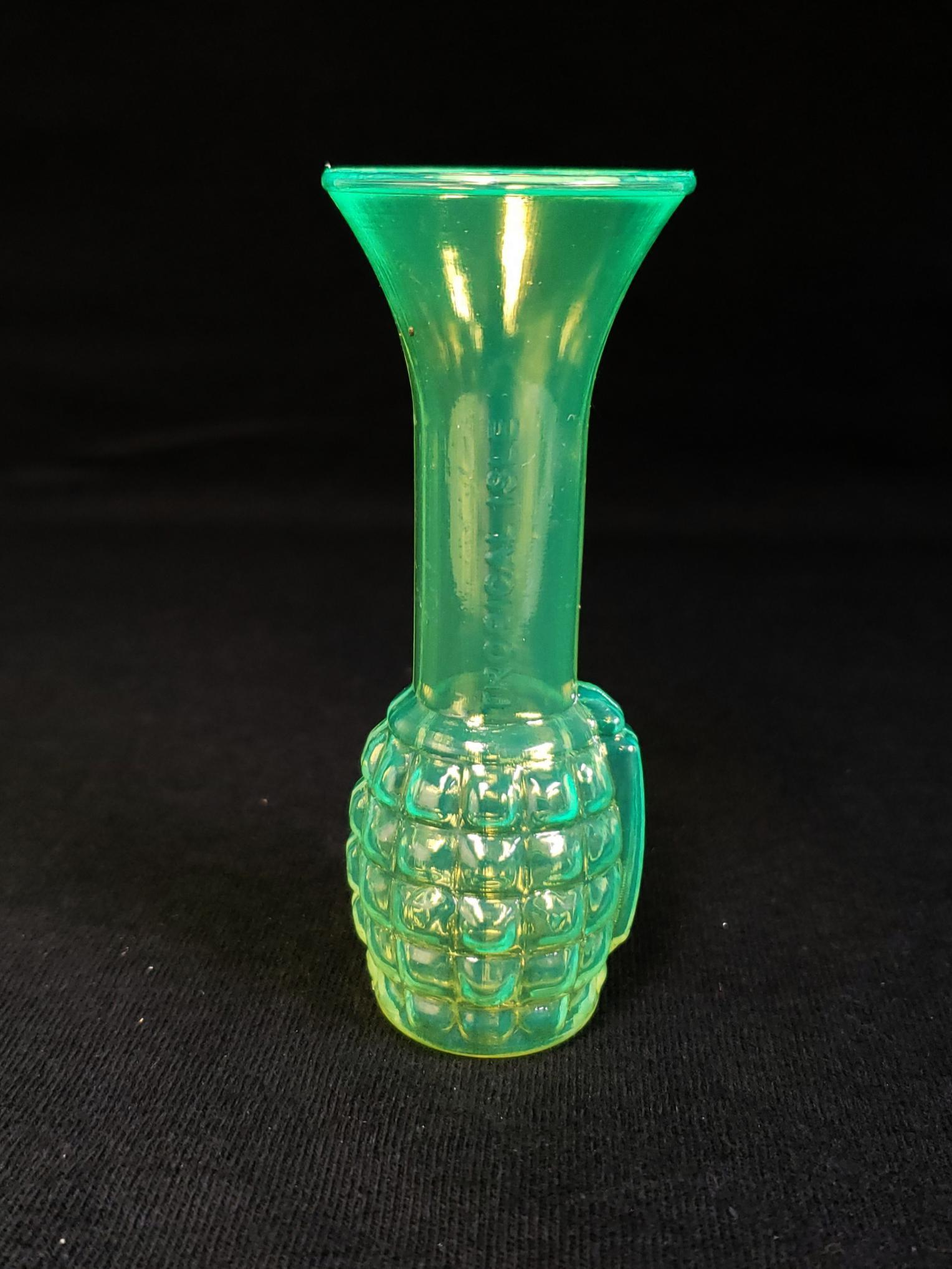Grenade: (345, 681, 641, 1053)
